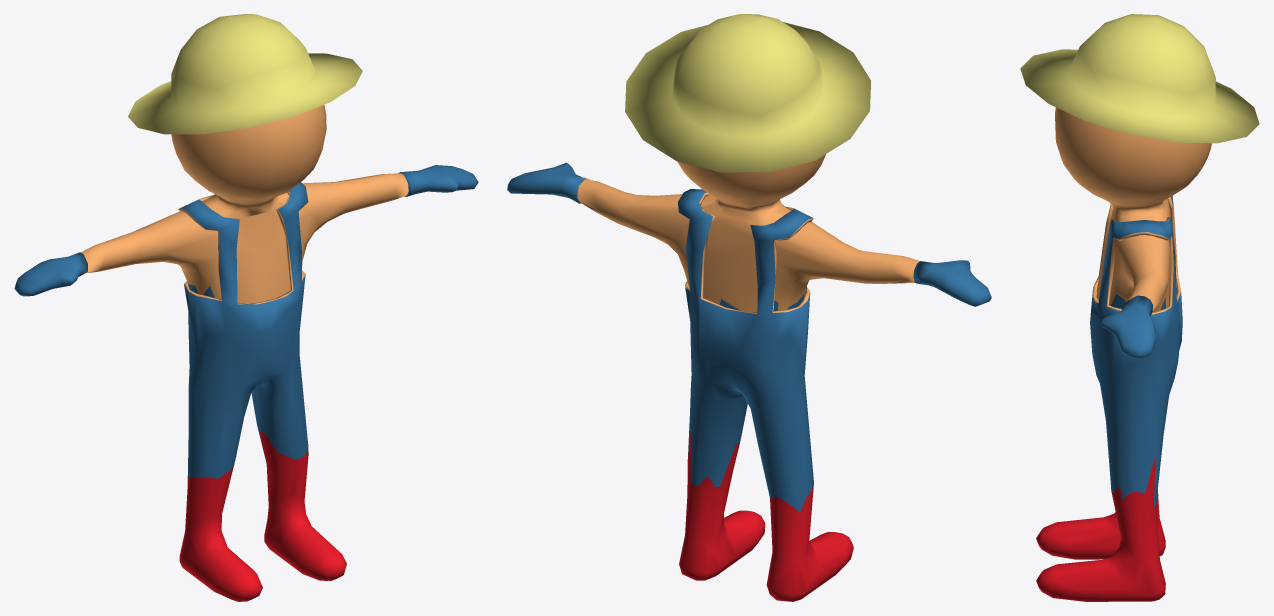
Rendered from FarmerLowPoly (2).fbx.
3 renders of one model, left to right at view 1: azimuth 30°, elevation 25°; view 2: azimuth 150°, elevation 25°; view 3: azimuth 270°, elevation 25°, orthographic. The views are drawn at different scales.
Visible parts, largest first — view 1: Cube; view 2: Cube; view 3: Cube.
Part boxes in pixels (<box>): Cube: <box>14,14,478,601</box>; Cube: <box>507,14,991,601</box>; Cube: <box>1020,14,1259,601</box>.
Bounding box in the file's own units: 431 × 486 × 190.
